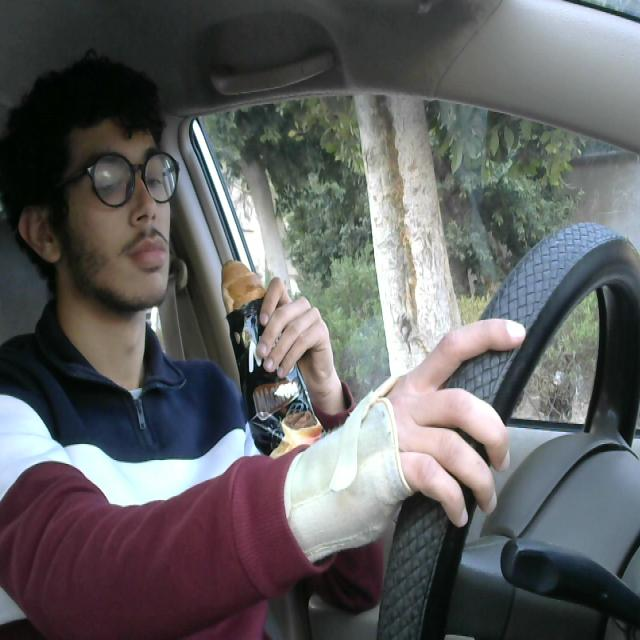eating: (214, 254, 345, 510)
